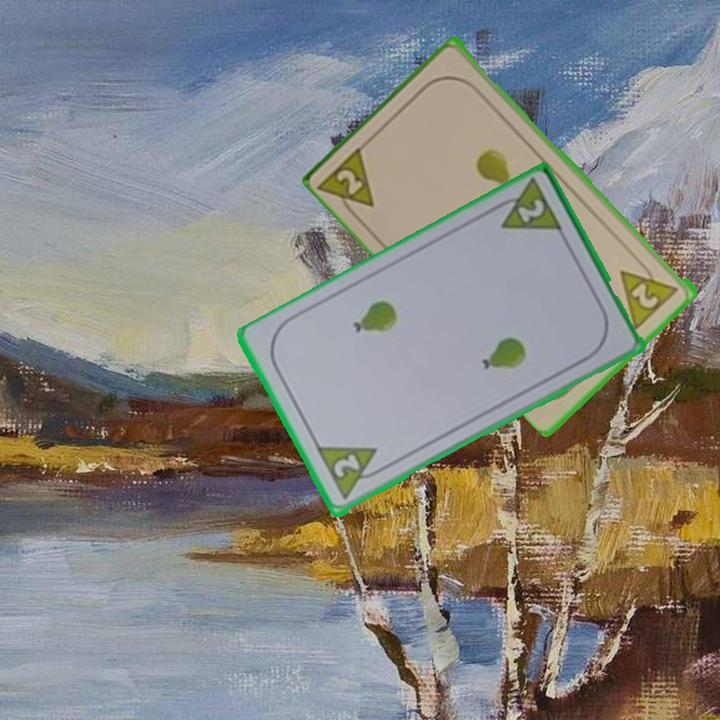2p: (316, 141, 378, 224), (313, 443, 390, 504), (488, 177, 566, 237), (628, 279, 662, 312)
